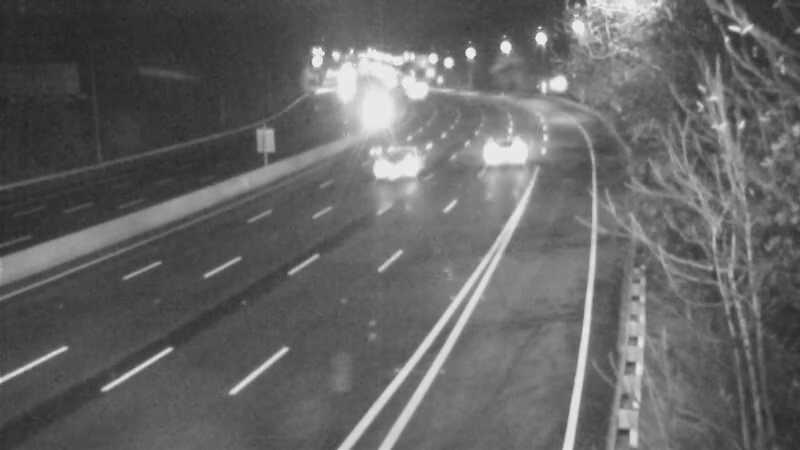vehicle: (362, 123, 442, 203), (390, 66, 440, 116), (484, 122, 534, 172), (348, 78, 398, 128)
